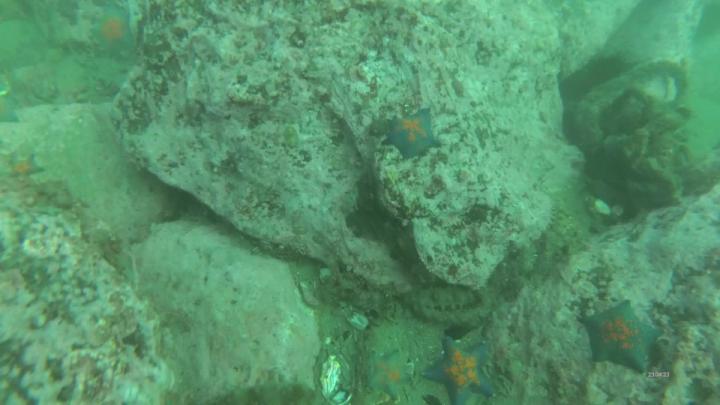holothurian: (403, 287, 477, 309), (410, 307, 491, 325)
starfish: (579, 300, 661, 372), (423, 341, 492, 405), (387, 110, 441, 158), (367, 349, 413, 399), (96, 12, 133, 57), (11, 157, 42, 181)
